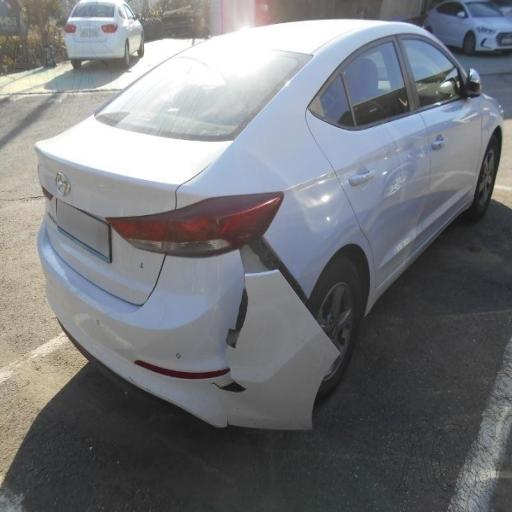broken: (204, 220, 347, 430)
